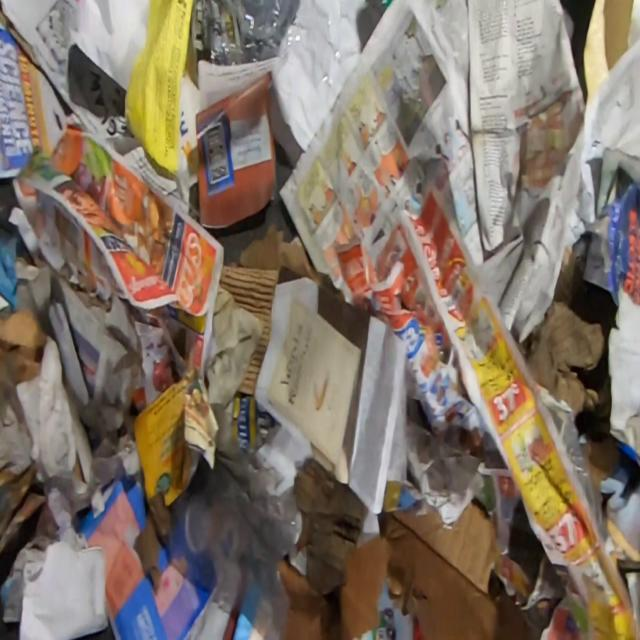cardboard: (0, 0, 189, 215), (280, 497, 538, 640), (13, 243, 142, 443), (524, 244, 622, 494), (219, 218, 345, 395), (131, 364, 220, 596), (572, 179, 640, 467), (0, 460, 60, 624), (582, 0, 634, 108), (0, 306, 47, 422), (175, 68, 206, 204)
soft_plastic: (197, 0, 340, 100)
